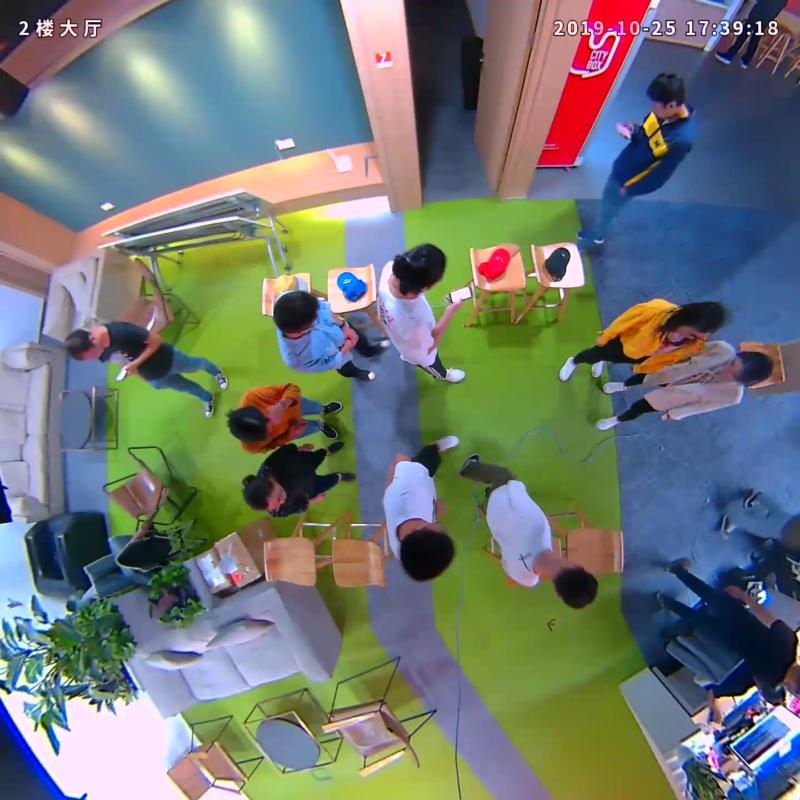head: (400, 521, 456, 581), (548, 558, 599, 610), (393, 243, 447, 292), (273, 291, 320, 337), (676, 301, 727, 342), (644, 72, 686, 120), (723, 350, 773, 387), (241, 475, 287, 512), (227, 405, 270, 444), (64, 328, 103, 363)
